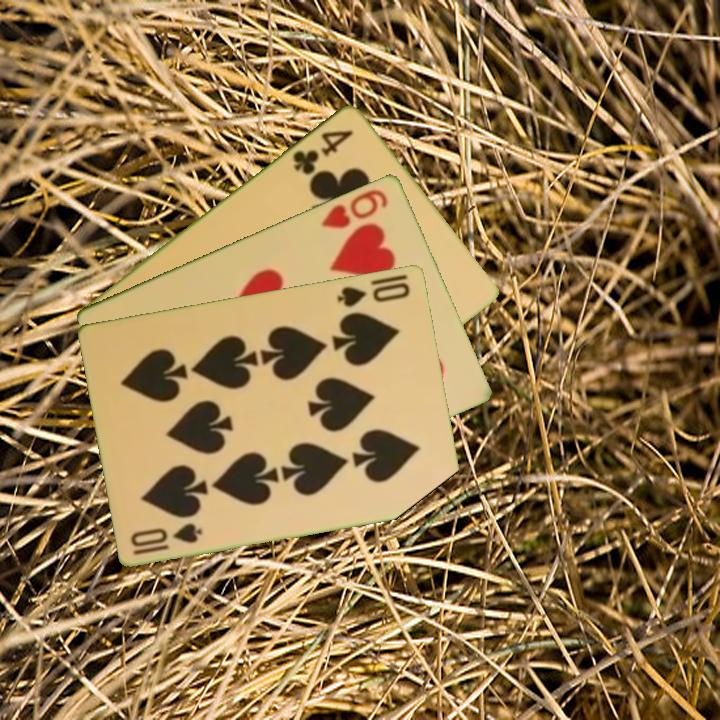10s: (127, 519, 206, 558), (333, 278, 413, 310)
4c: (289, 125, 357, 178)
6h: (318, 185, 391, 231)
